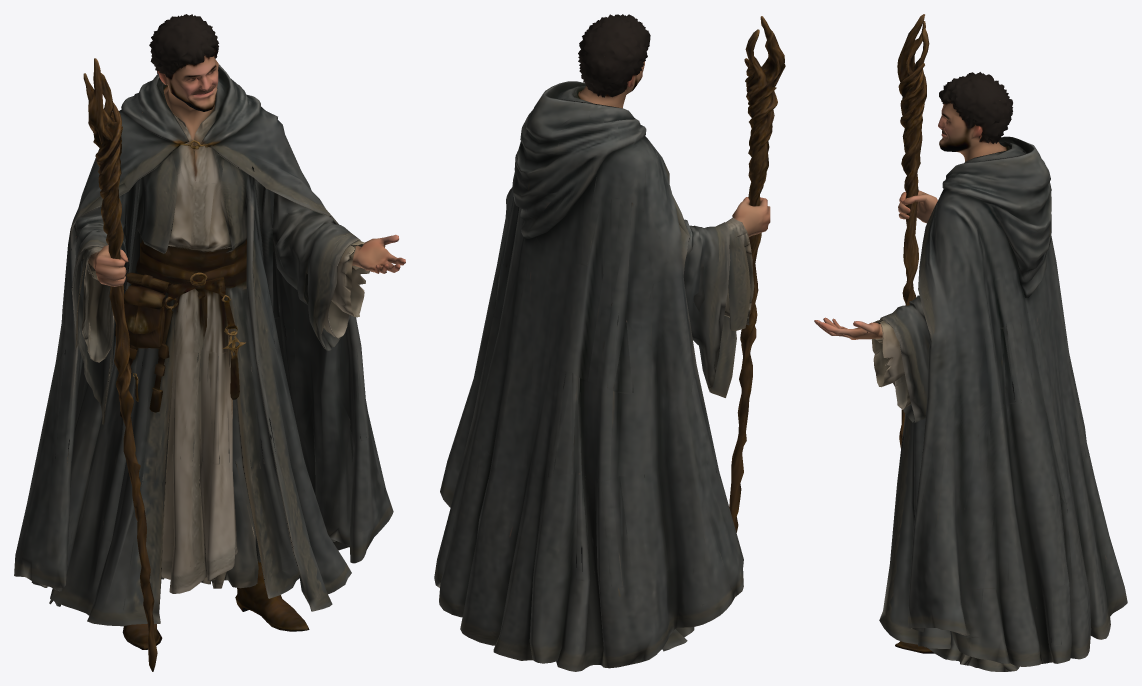
File: gabryel.glb
The picture shows the model from 3 angles, left to right: view 1: azimuth 30°, elevation 25°; view 2: azimuth 150°, elevation 25°; view 3: azimuth 270°, elevation 25°; orthographic projection. The views are drawn at different scales.
Visible parts, largest first — view 1: geometry_0; view 2: geometry_0; view 3: geometry_0.
Part boxes in pixels (left/top/right/bottom): geometry_0: left=14, top=14, right=405, bottom=671; geometry_0: left=434, top=14, right=785, bottom=671; geometry_0: left=814, top=14, right=1127, bottom=671.
Size of the model in its own units: 0.5352 by 0.9521 by 0.4893.
1 material, 1 textured.
